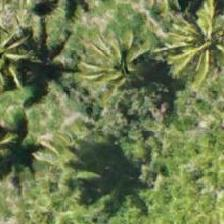Kelapa_Sawit: (78, 12, 168, 102), (166, 0, 223, 84)
